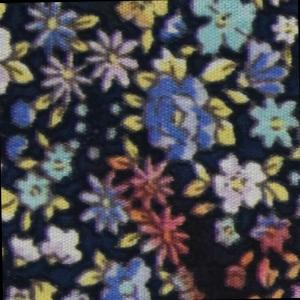Stain: (100, 151, 300, 300)
